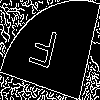F: (25, 25, 60, 79)
